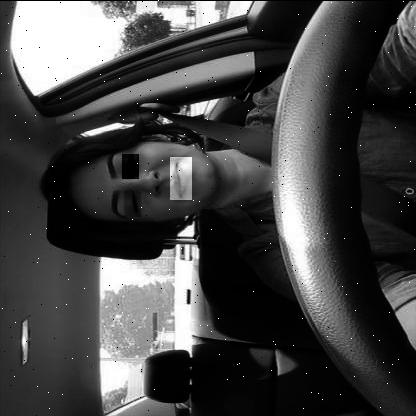seatbelt: (40, 115, 416, 263)
